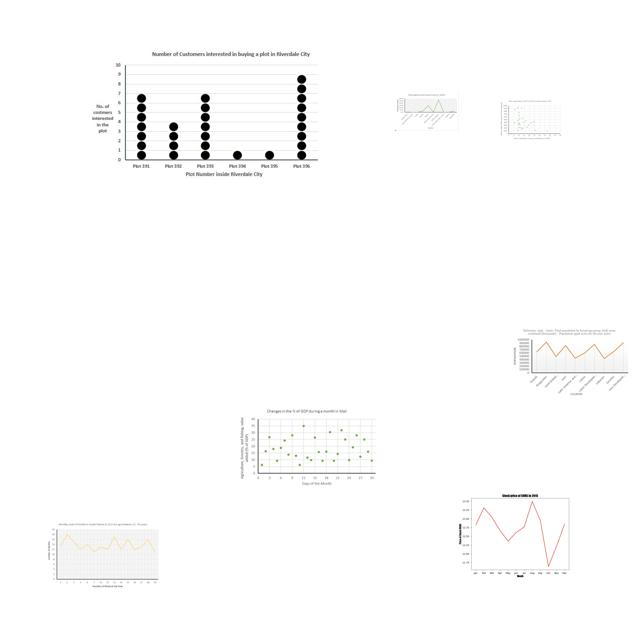Graph: (91, 50, 320, 182), (451, 487, 586, 580), (237, 407, 381, 489), (510, 326, 630, 397), (45, 521, 161, 591), (499, 99, 562, 140), (395, 92, 459, 131)
